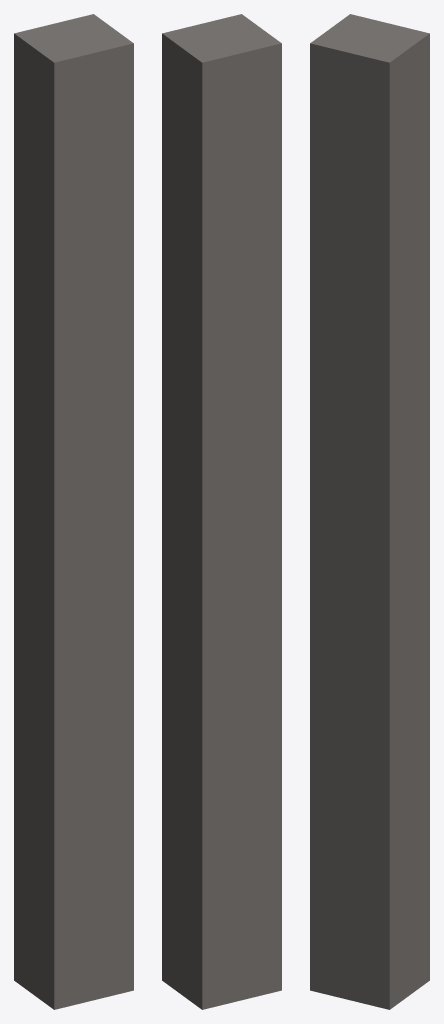
File: CouloirsComble_CoinBas_00.fbx
3 views of the same model, side by side, from view 1: azimuth 30°, elevation 25°; view 2: azimuth 210°, elevation 25°; view 3: azimuth 330°, elevation 25° (orthographic).
Visible parts, largest first — view 1: CoinBas_00; view 2: CoinBas_00; view 3: CoinBas_00.
Boxes of the visible parts, <box> form: CoinBas_00: <box>14,14,133,1009</box>; CoinBas_00: <box>162,14,281,1009</box>; CoinBas_00: <box>310,14,429,1009</box>.
Bounding box in the file's own units: 0.5702 × 6.49 × 0.4978.
